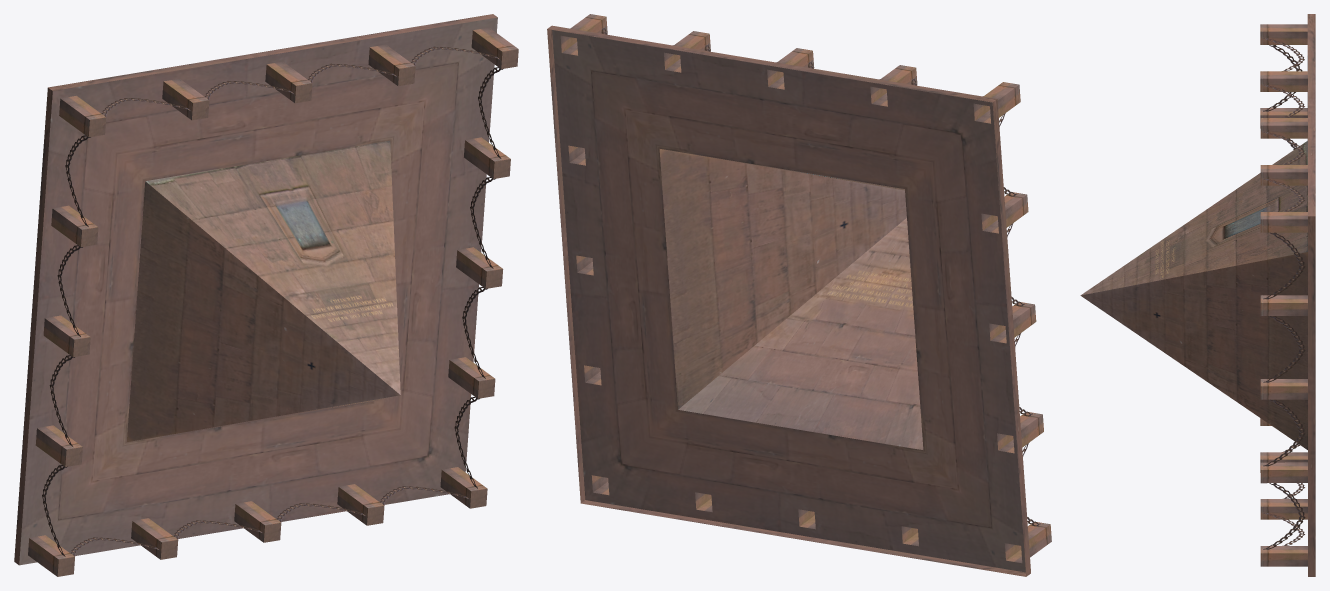
The model's file is DEU_603_KARLSRUHE_PYRAMID_S.OBJ.
3 views of the same model, side by side, from view 1: azimuth 30°, elevation 25°; view 2: azimuth 150°, elevation 25°; view 3: azimuth 270°, elevation 25° (orthographic). The views are drawn at different scales.
Parts seen in each view (by area): view 1: DEU_603_KARLSRUHE_PYRAMID_S:DEU_603_KARLSRUHE_PYRAMID; view 2: DEU_603_KARLSRUHE_PYRAMID_S:DEU_603_KARLSRUHE_PYRAMID; view 3: DEU_603_KARLSRUHE_PYRAMID_S:DEU_603_KARLSRUHE_PYRAMID.
Part boxes in pixels (x1,y1,x2,y2): DEU_603_KARLSRUHE_PYRAMID_S:DEU_603_KARLSRUHE_PYRAMID: (14,14,518,576); DEU_603_KARLSRUHE_PYRAMID_S:DEU_603_KARLSRUHE_PYRAMID: (547,14,1051,576); DEU_603_KARLSRUHE_PYRAMID_S:DEU_603_KARLSRUHE_PYRAMID: (1080,14,1315,576).
Size of the model in its own units: 10.48 by 10.48 by 5.56.
Materials: 1 (1 with a texture image).
